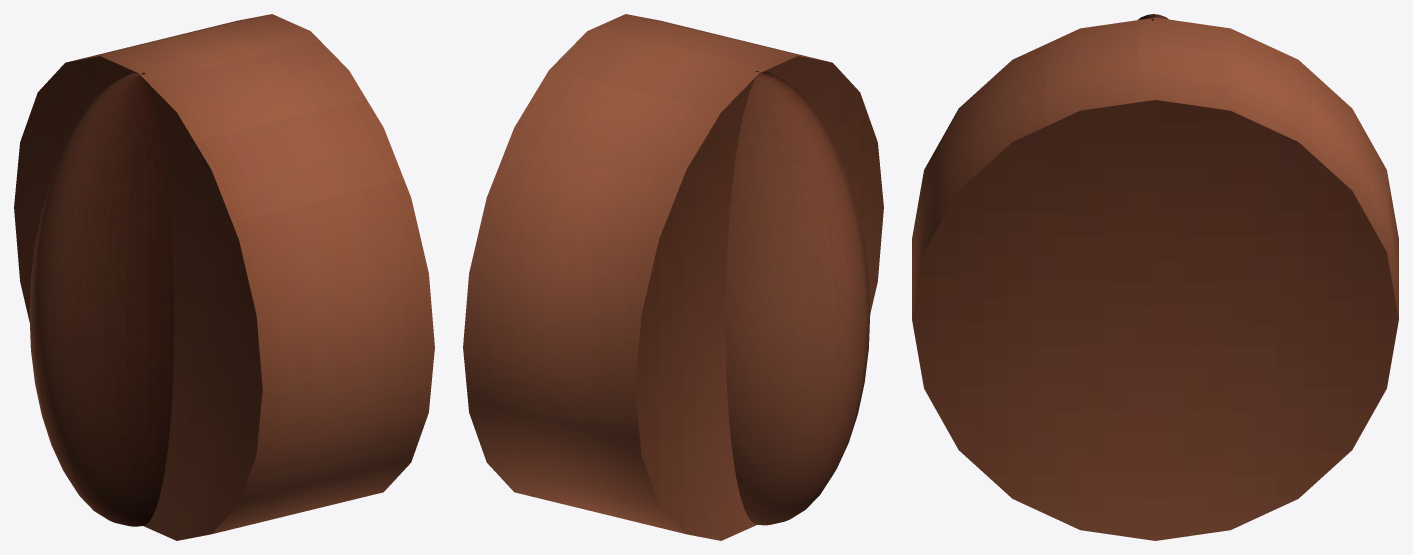
File: perilla1.obj
The picture shows the model from 3 angles, left to right: view 1: azimuth 30°, elevation 25°; view 2: azimuth 150°, elevation 25°; view 3: azimuth 270°, elevation 25°; orthographic projection. The views are drawn at different scales.
Visible parts, largest first — view 1: cuarto:cuarto:polySurface11599; view 2: cuarto:cuarto:polySurface11599; view 3: cuarto:cuarto:polySurface11599.
Boxes of the visible parts, x1,y1,x2,y2 form: cuarto:cuarto:polySurface11599: [14, 14, 434, 540]; cuarto:cuarto:polySurface11599: [463, 14, 883, 540]; cuarto:cuarto:polySurface11599: [912, 14, 1398, 540].
Size of the model in its own units: 0.0961 by 0.1498 by 0.1498.
1 material, 1 textured.
